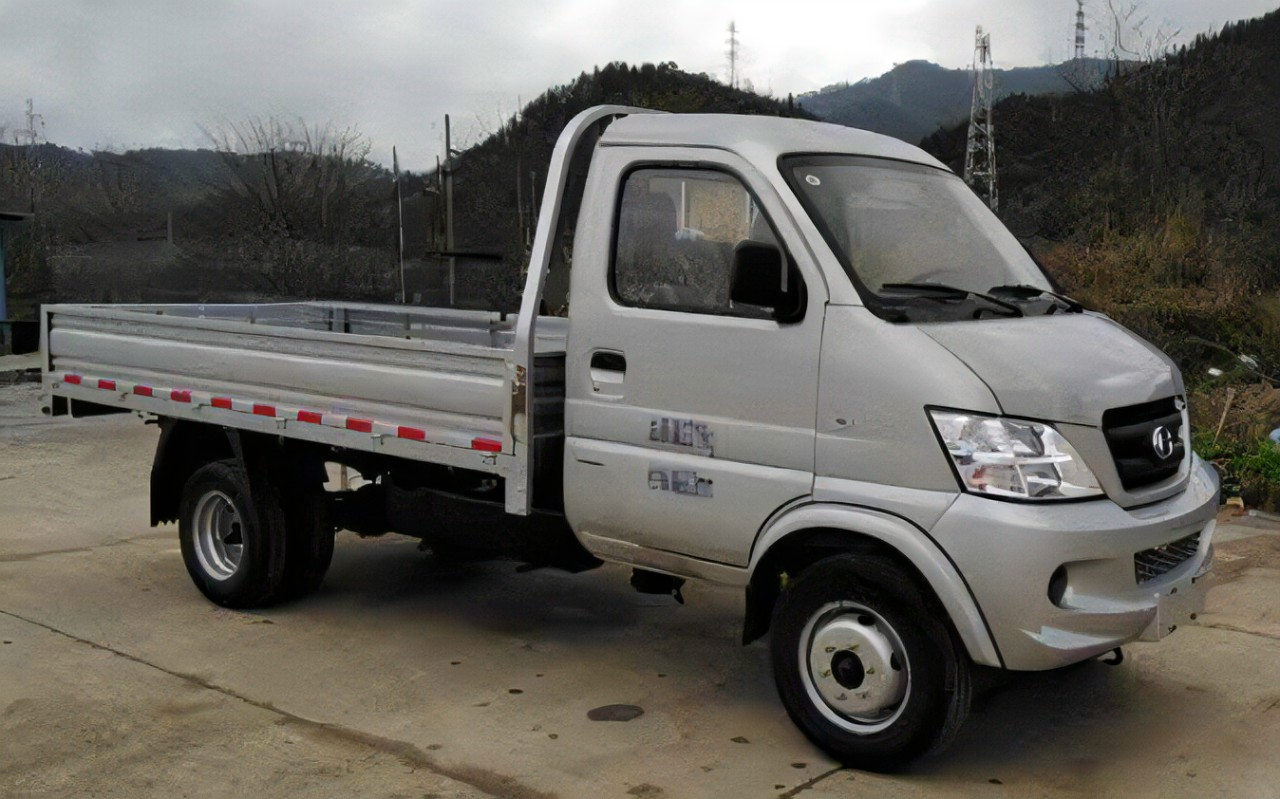smalltruck: (42, 90, 1202, 756)
